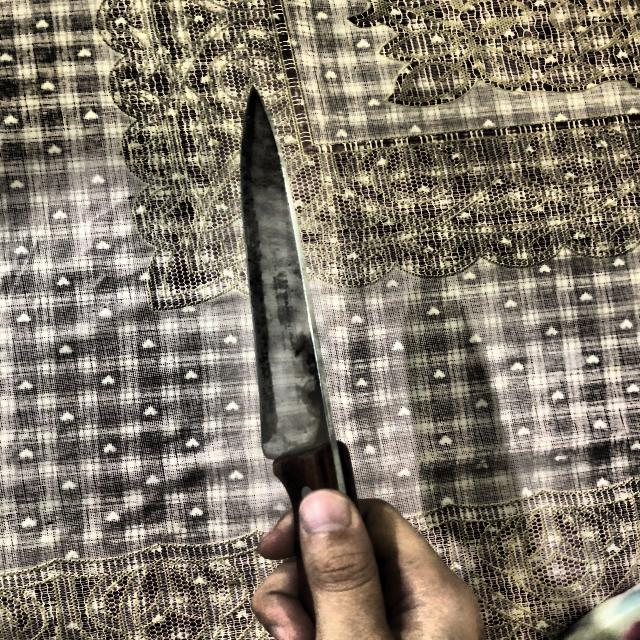knife: (240, 88, 356, 617)
